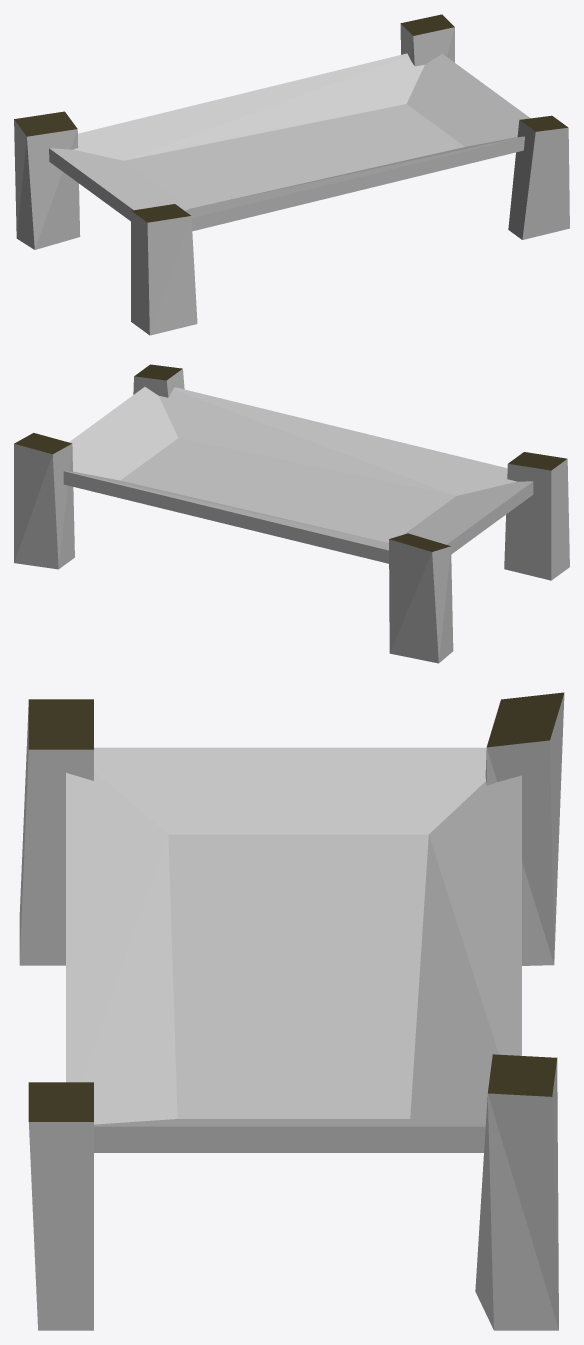
File: BEDHIGH_PC.OBJ
3 renders of one model, top to bottom at view 1: azimuth 30°, elevation 25°; view 2: azimuth 150°, elevation 25°; view 3: azimuth 270°, elevation 25°, orthographic. The views are drawn at different scales.
Visible parts, largest first — view 1: BEDHIGH_PC; view 2: BEDHIGH_PC; view 3: BEDHIGH_PC.
Boxes of the visible parts, x1,y1,x2,y2 form: BEDHIGH_PC: (14,14,569,335); BEDHIGH_PC: (14,364,569,663); BEDHIGH_PC: (19,692,564,1330).
Bounding box in the file's own units: 2.34 × 0.62 × 1.3.
